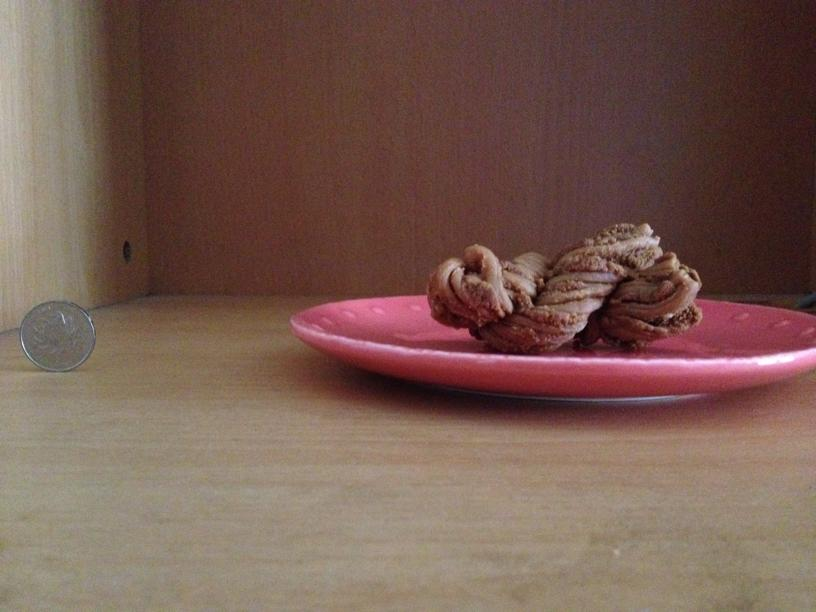coin: (18, 299, 95, 373)
fired_dough_twist: (427, 233, 707, 353)
